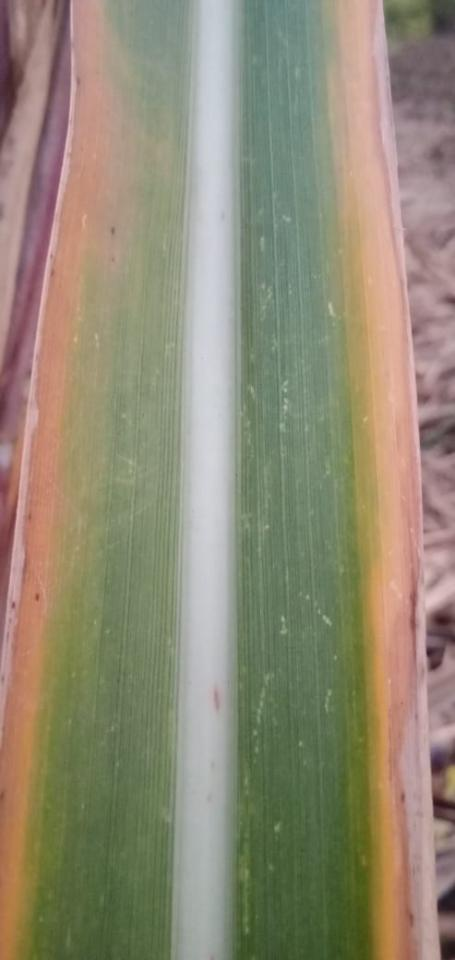Yellow: (0, 0, 156, 959), (327, 0, 429, 959)
